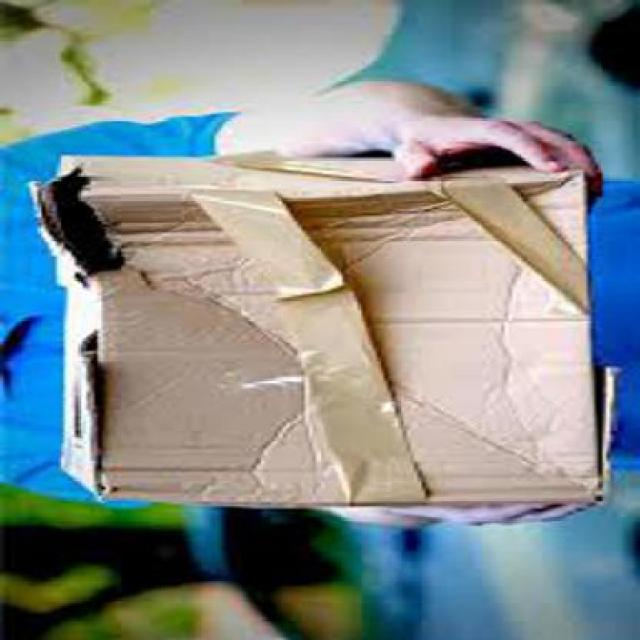defect: (25, 146, 617, 523)
